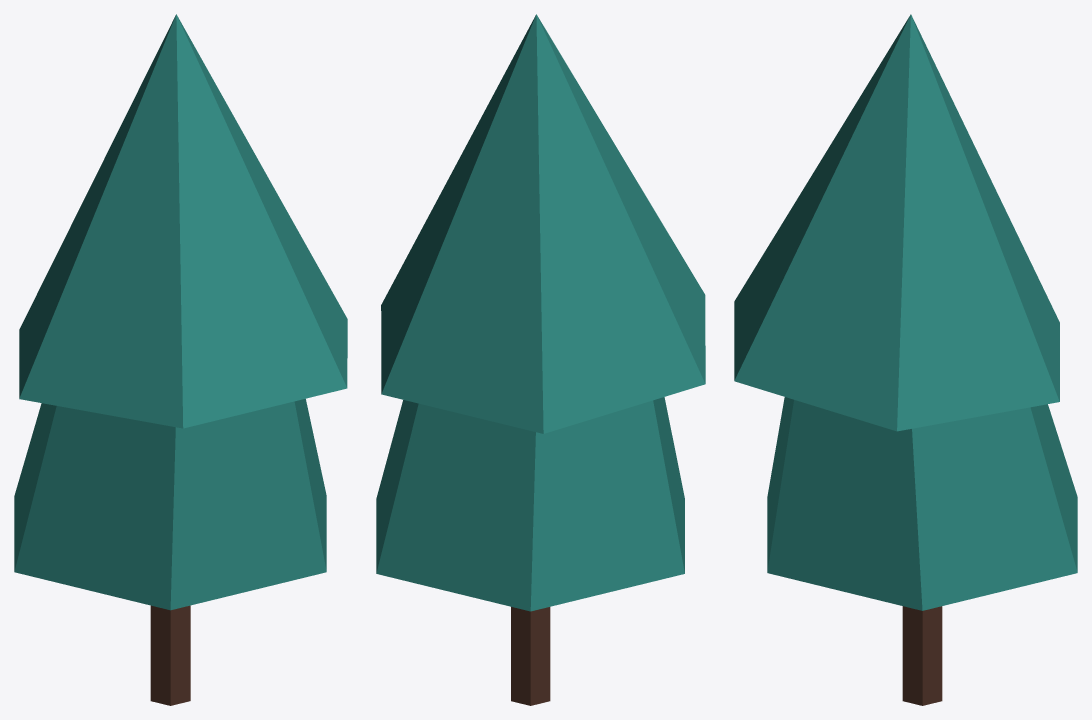
File: Tree_Type7_1.fbx
3 views of the same model, side by side, from view 1: azimuth 30°, elevation 25°; view 2: azimuth 150°, elevation 25°; view 3: azimuth 270°, elevation 25° (orthographic).
Parts seen in each view (by area): view 1: Tree_Type7_1; view 2: Tree_Type7_1; view 3: Tree_Type7_1.
Boxes of the visible parts, box(x1,y1,x2,y2) form: Tree_Type7_1: box(14, 14, 347, 705); Tree_Type7_1: box(376, 14, 705, 705); Tree_Type7_1: box(734, 14, 1077, 705).
Bounding box in the file's own units: 91.16 × 182 × 83.09.
